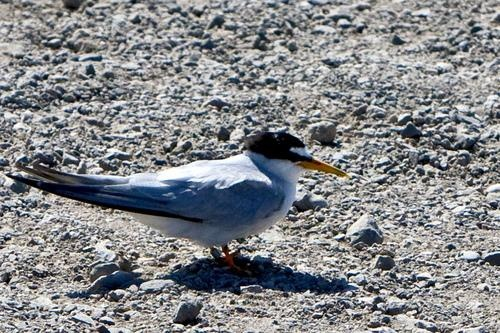bird: (11, 127, 353, 270)
